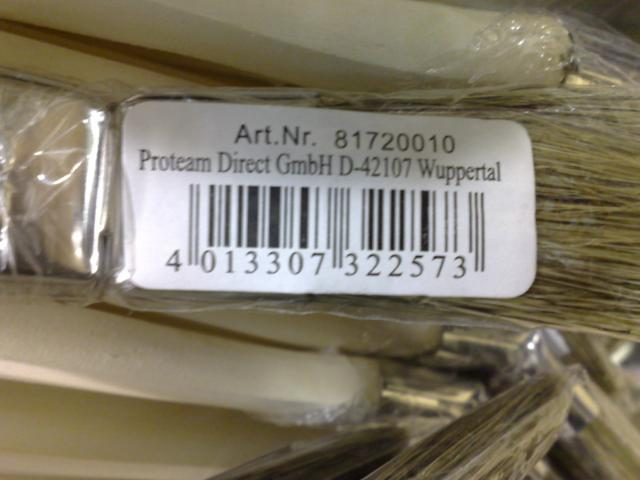Barcode: (159, 176, 502, 286)
